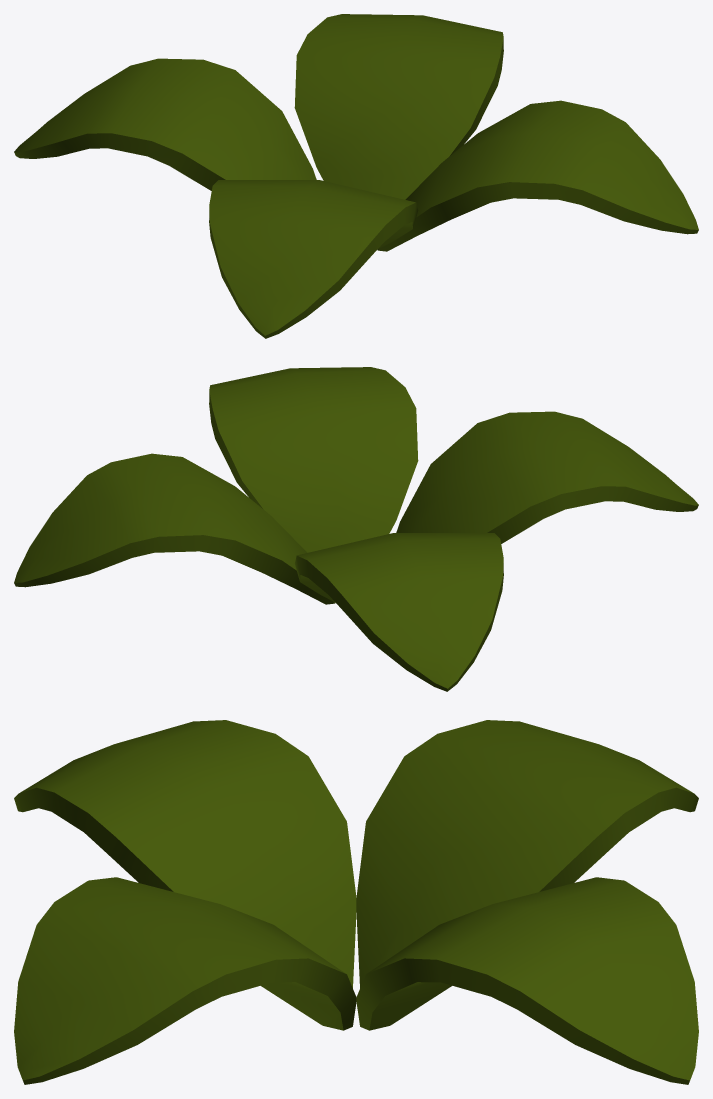
The model's file is Plant_Small.fbx.
3 views of the same model, one above another, from view 1: azimuth 30°, elevation 25°; view 2: azimuth 150°, elevation 25°; view 3: azimuth 270°, elevation 25° (orthographic). The views are drawn at different scales.
Parts seen in each view (by area): view 1: Plant_Small; view 2: Plant_Small; view 3: Plant_Small.
Part boxes in pixels (x1,y1,x2,y2): Plant_Small: (14,14,698,338); Plant_Small: (14,367,698,691); Plant_Small: (14,720,698,1084).
Size of the model in its own units: 103 by 28.67 by 103.
